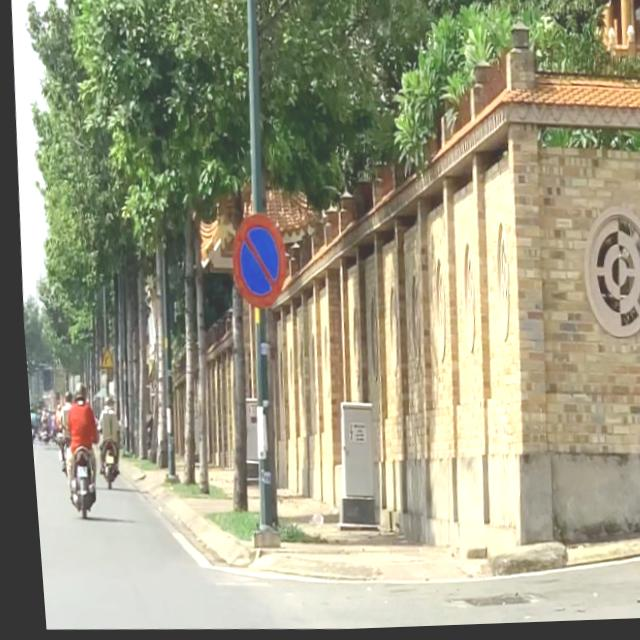Cam do xe: (223, 212, 287, 314)
cho ngoat nguy hiem vong ben phai: (92, 345, 109, 369)
